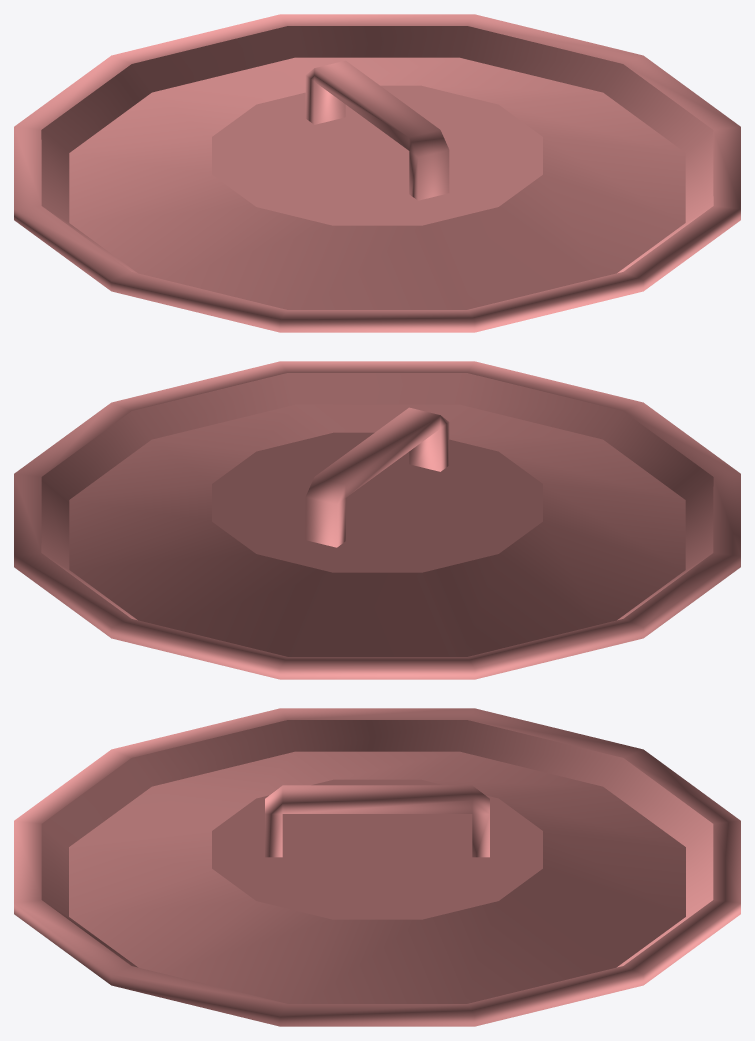
File: TFYK_saucepan_cap_big.FBX
3 views of the same model, one above another, from view 1: azimuth 30°, elevation 25°; view 2: azimuth 150°, elevation 25°; view 3: azimuth 270°, elevation 25° (orthographic).
Visible parts, largest first — view 1: TFYK_saucepan_cap_big; view 2: TFYK_saucepan_cap_big; view 3: TFYK_saucepan_cap_big.
Part boxes in pixels (x1,y1,x2,y2): TFYK_saucepan_cap_big: (14,14,740,332); TFYK_saucepan_cap_big: (14,361,740,679); TFYK_saucepan_cap_big: (14,708,740,1026).
Bounding box in the file's own units: 0.2494 × 0.0378 × 0.2494.
